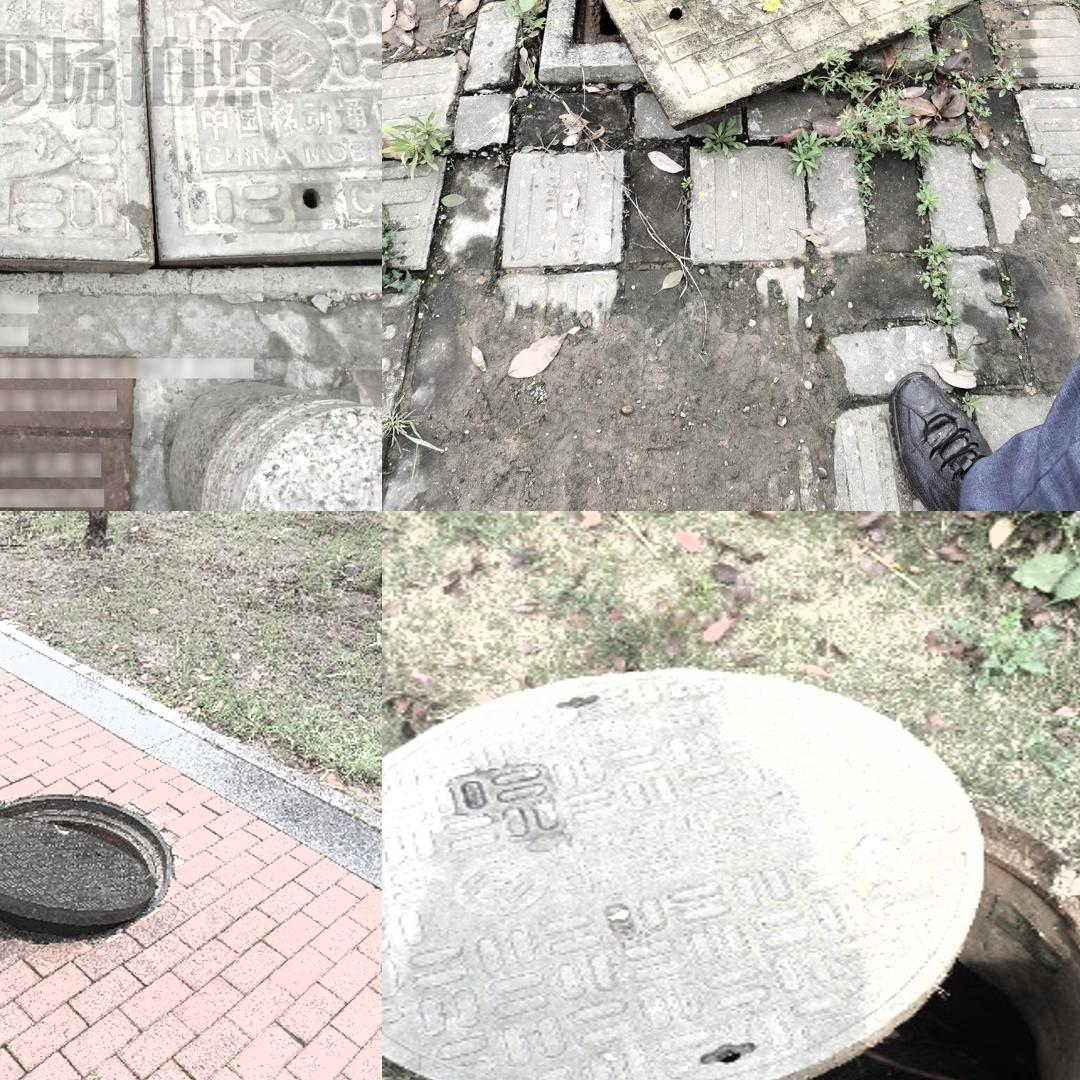uncovered: (382, 663, 1080, 1080), (0, 0, 382, 293), (537, 0, 971, 125), (0, 794, 171, 945)
